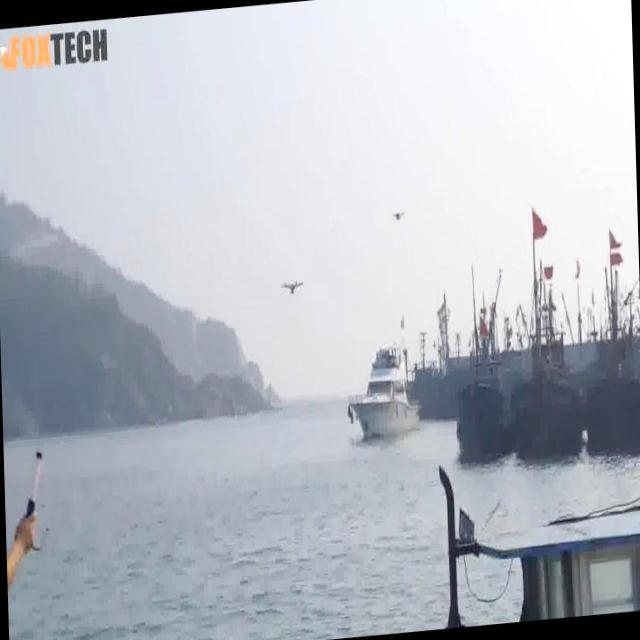drone: (280, 274, 306, 300), (391, 203, 409, 233)
